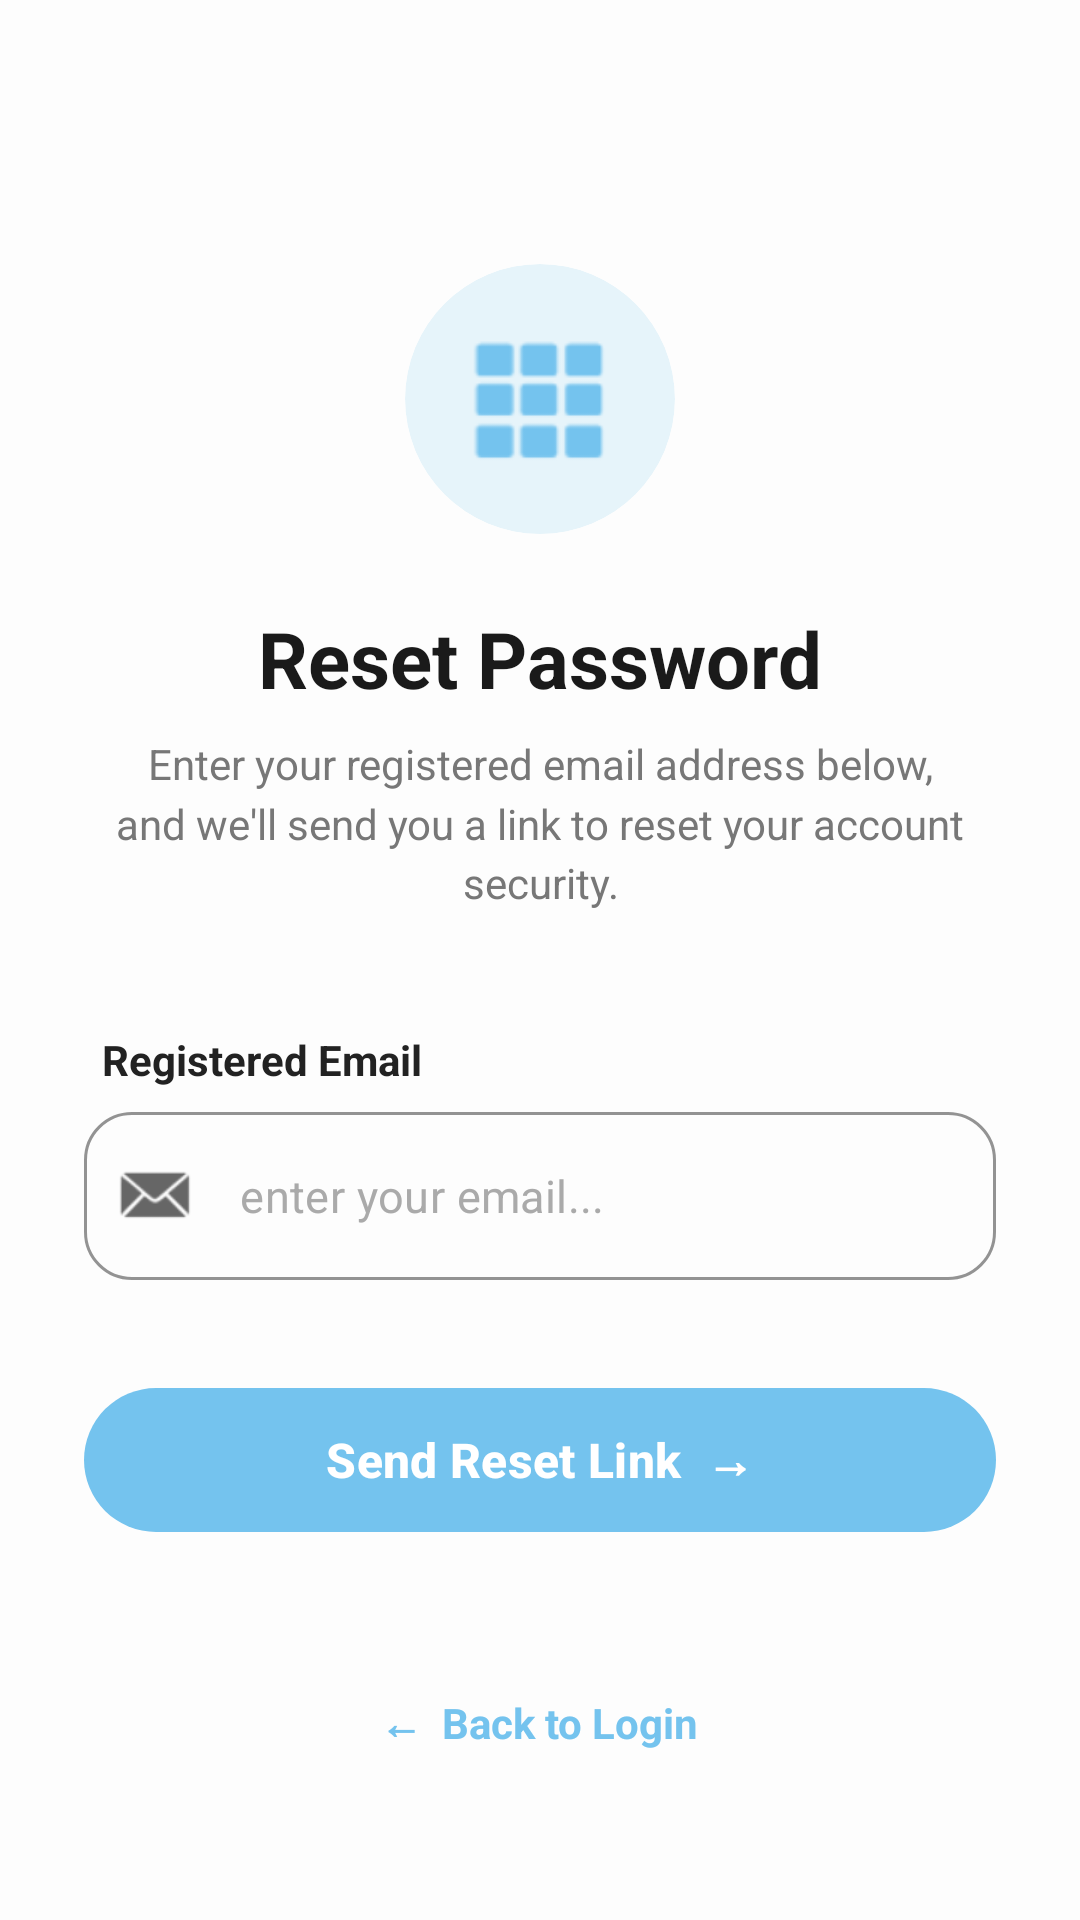

Locate icon controls on the screen. Image size 1080x1920, boxes as bbox(x1, y1, x2, y2).
dialer: bbox(475, 342, 603, 458)
